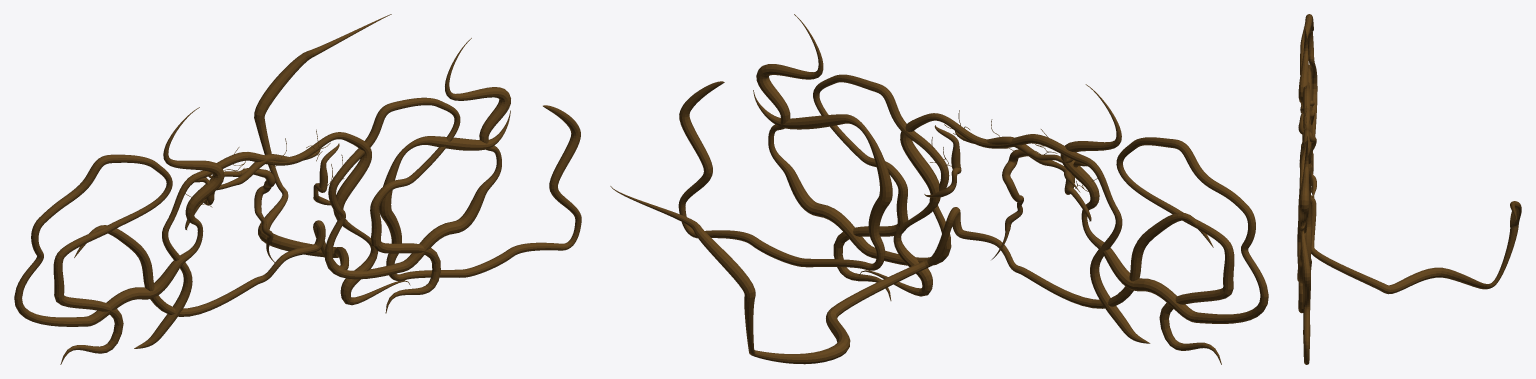
3 views of the same model, side by side, from view 1: azimuth 30°, elevation 25°; view 2: azimuth 150°, elevation 25°; view 3: azimuth 270°, elevation 25° (orthographic). The views are drawn at different scales.
Parts seen in each view (by area): view 1: roots; view 2: roots; view 3: roots.
Part boxes in pixels (x1,y1,x2,y2): roots: (14, 14, 581, 364); roots: (610, 14, 1268, 364); roots: (1297, 14, 1521, 364).
Size of the model in its own units: 1025 by 439 by 435.
